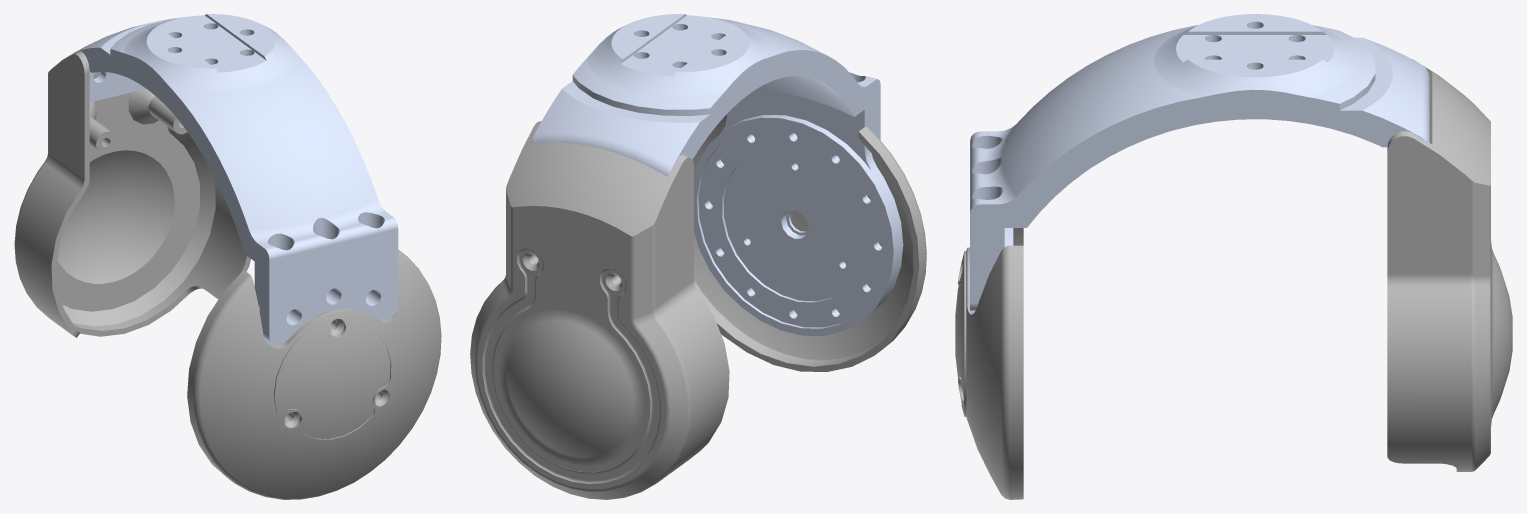
File: LPelvisZ.obj
3 renders of one model, left to right at view 1: azimuth 30°, elevation 25°; view 2: azimuth 150°, elevation 25°; view 3: azimuth 270°, elevation 25°, orthographic. The views are drawn at different scales.
Size of the model in its own units: 0.096 by 0.14 by 0.1613.
